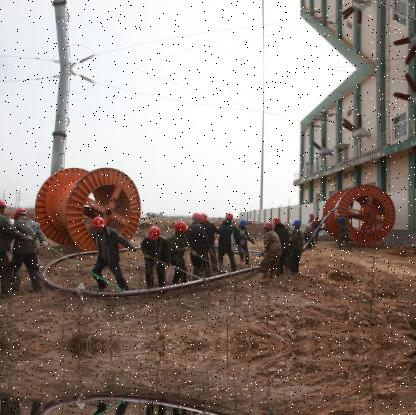helmet: (145, 223, 164, 240), (14, 206, 31, 223), (93, 213, 109, 231), (172, 219, 189, 233), (223, 210, 237, 224), (2, 196, 10, 217), (264, 219, 276, 231), (240, 215, 251, 228), (294, 216, 304, 228), (274, 215, 283, 225)
